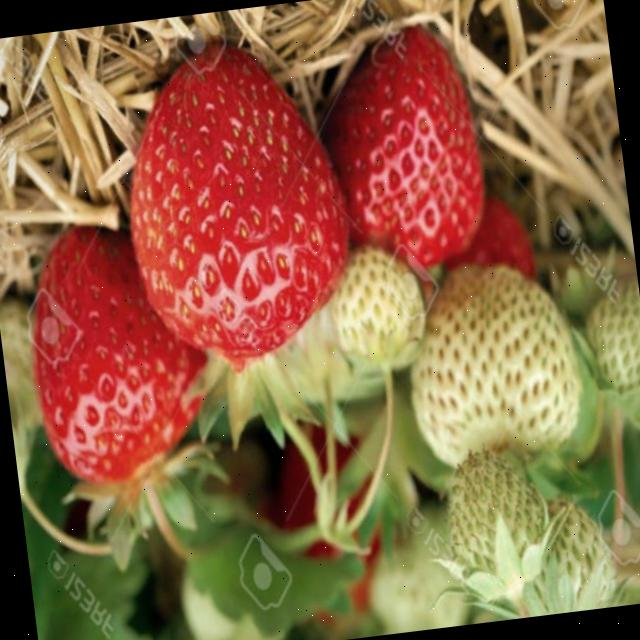strawberry: (110, 33, 364, 380), (18, 219, 222, 506), (314, 23, 494, 283), (397, 257, 588, 473), (441, 444, 554, 600), (511, 492, 620, 618), (327, 241, 429, 373), (582, 282, 640, 415)
